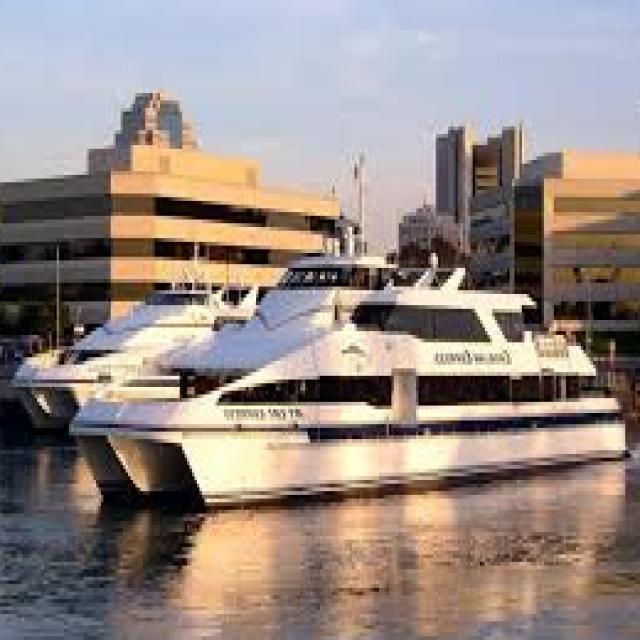houseboat: (88, 229, 632, 507), (17, 252, 265, 414), (171, 231, 391, 390)
